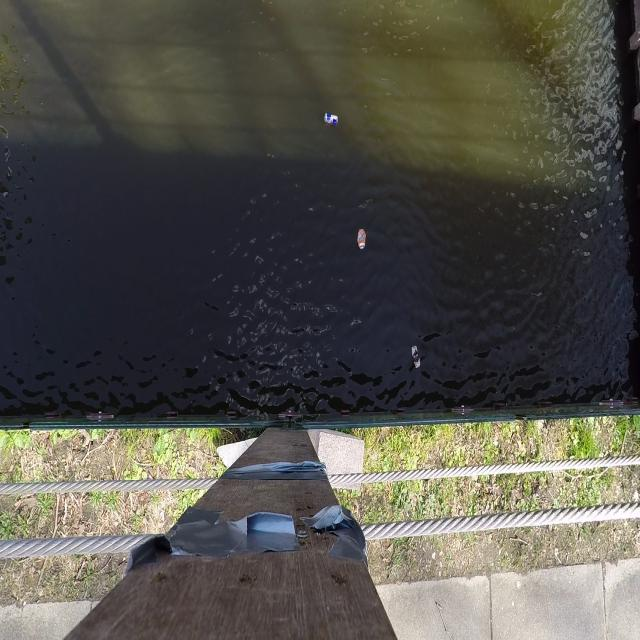Non plastique: (352, 223, 368, 253), (409, 339, 424, 370), (318, 108, 341, 128)
